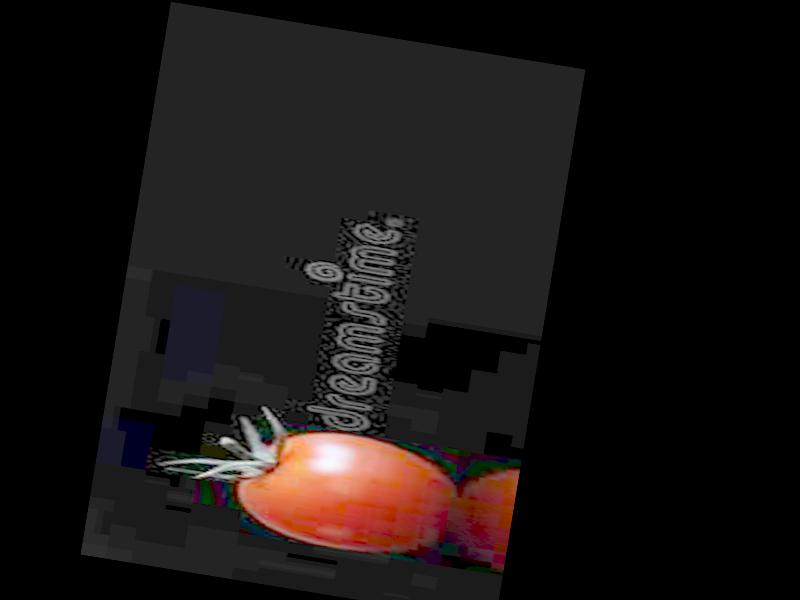Tomato: (230, 418, 458, 564)
